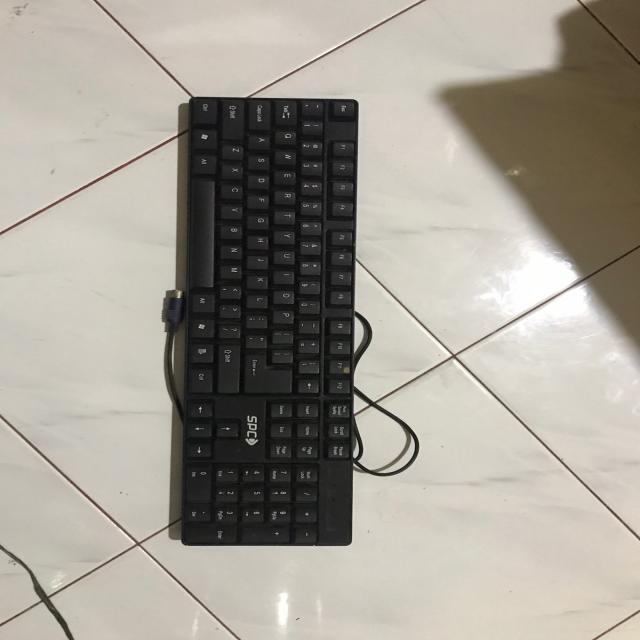-mouse-: (180, 97, 361, 548)
